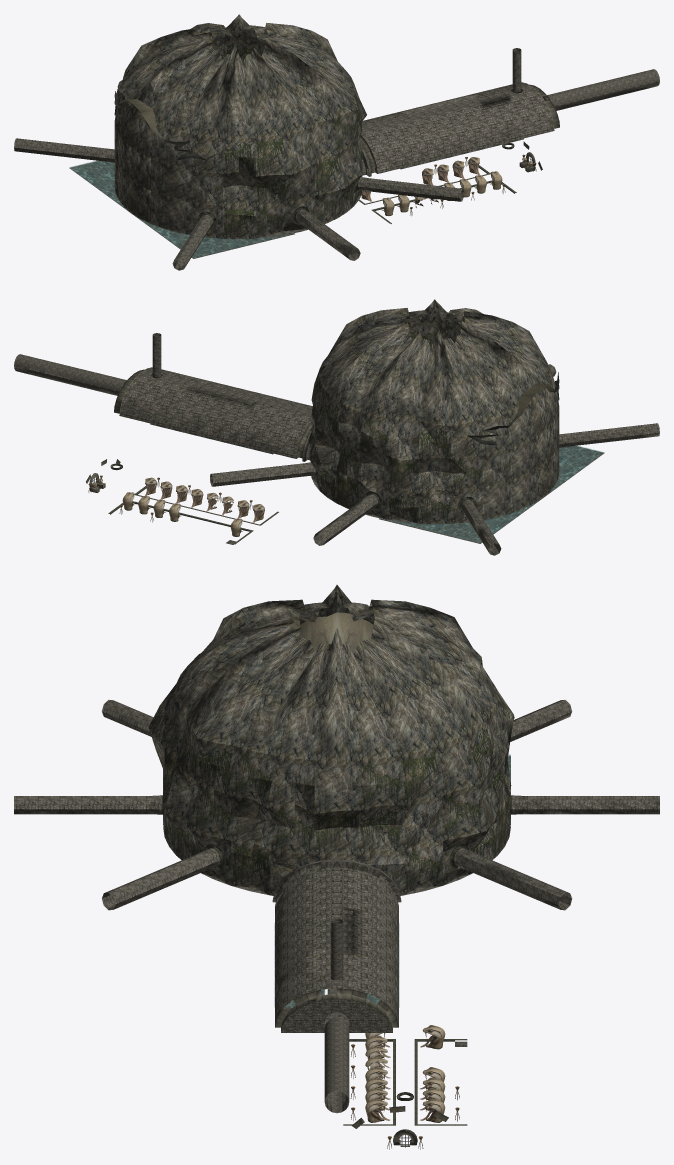
Rendered from chamber_of_secrets.glb.
The picture shows the model from 3 angles, top to bottom: view 1: azimuth 30°, elevation 25°; view 2: azimuth 150°, elevation 25°; view 3: azimuth 270°, elevation 25°; orthographic projection. The views are drawn at different scales.
Visible parts, largest first — view 1: Mesh_0076.001, Mesh_0109.001, Mesh_0071.001, Mesh_0083.001, Mesh_0069.001, Mesh_0082.001, Mesh_0103.001, Mesh_0075.001, Mesh_0205.001, Mesh_0084.001, Mesh_0072.001, Mesh_0074.001 (+8 smaller); view 2: Mesh_0076.001, Mesh_0109.001, Mesh_0071.001, Mesh_0083.001, Mesh_0069.001, Mesh_0082.001, Mesh_0103.001, Mesh_0072.001, Mesh_0085.001, Mesh_0086.001, Mesh_0205.001, Mesh_0074.001 (+9 smaller); view 3: Mesh_0076.001, Mesh_0109.001, Mesh_0069.001, Mesh_0073.001, Mesh_0071.001, Mesh_0070.001, Mesh_0074.001, Mesh_0085.001, Mesh_0081.001, Mesh_0120.001, Mesh_0087.001, Mesh_0075.001 (+7 smaller).
Part boxes in pixels (x1=…): Mesh_0076.001: x1=117, y1=14, x2=356, y2=138; Mesh_0109.001: x1=361, y1=69, x2=659, y2=173; Mesh_0071.001: x1=114, y1=41, x2=362, y2=238; Mesh_0083.001: x1=114, y1=129, x2=362, y2=237; Mesh_0069.001: x1=14, y1=80, x2=463, y2=264; Mesh_0082.001: x1=114, y1=123, x2=255, y2=239; Mesh_0103.001: x1=69, y1=161, x2=362, y2=258; Mesh_0075.001: x1=222, y1=135, x2=344, y2=216; Mesh_0205.001: x1=69, y1=161, x2=294, y2=257; Mesh_0084.001: x1=124, y1=115, x2=366, y2=239; Mesh_0072.001: x1=121, y1=76, x2=362, y2=213; Mesh_0074.001: x1=222, y1=40, x2=362, y2=205; Mesh_0076.001: x1=319, y1=299, x2=550, y2=425; Mesh_0109.001: x1=14, y1=354, x2=312, y2=458; Mesh_0071.001: x1=311, y1=326, x2=559, y2=524; Mesh_0083.001: x1=353, y1=409, x2=559, y2=520; Mesh_0069.001: x1=210, y1=364, x2=659, y2=549; Mesh_0082.001: x1=311, y1=414, x2=558, y2=523; Mesh_0103.001: x1=311, y1=446, x2=604, y2=543; Mesh_0072.001: x1=310, y1=393, x2=549, y2=490; Mesh_0085.001: x1=310, y1=415, x2=482, y2=523; Mesh_0086.001: x1=310, y1=338, x2=451, y2=523; Mesh_0205.001: x1=379, y1=446, x2=604, y2=542; Mesh_0074.001: x1=315, y1=323, x2=451, y2=519; Mesh_0076.001: x1=175, y1=585, x2=498, y2=760; Mesh_0109.001: x1=275, y1=867, x2=398, y2=1100; Mesh_0069.001: x1=14, y1=700, x2=659, y2=904; Mesh_0073.001: x1=176, y1=693, x2=513, y2=894; Mesh_0071.001: x1=165, y1=701, x2=510, y2=874; Mesh_0070.001: x1=148, y1=684, x2=514, y2=895; Mesh_0074.001: x1=197, y1=657, x2=509, y2=860; Mesh_0085.001: x1=164, y1=715, x2=513, y2=887; Mesh_0081.001: x1=14, y1=711, x2=659, y2=910; Mesh_0120.001: x1=281, y1=919, x2=392, y2=1113; Mesh_0087.001: x1=164, y1=720, x2=513, y2=894; Mesh_0075.001: x1=162, y1=747, x2=509, y2=856.
Bounding box in the file's own units: 371 × 148 × 264.
Materials: 126 (126 with a texture image).
